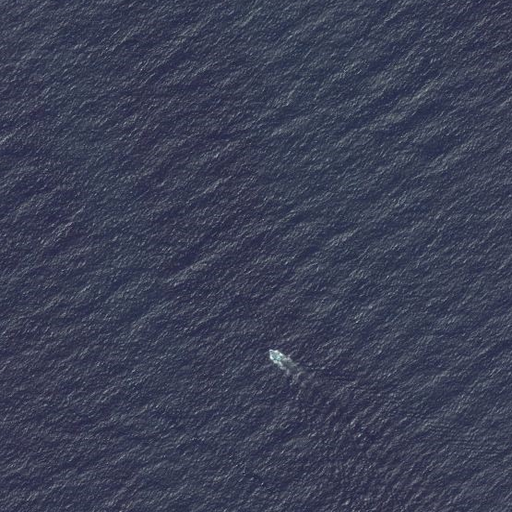ship: (265, 348, 281, 359)
